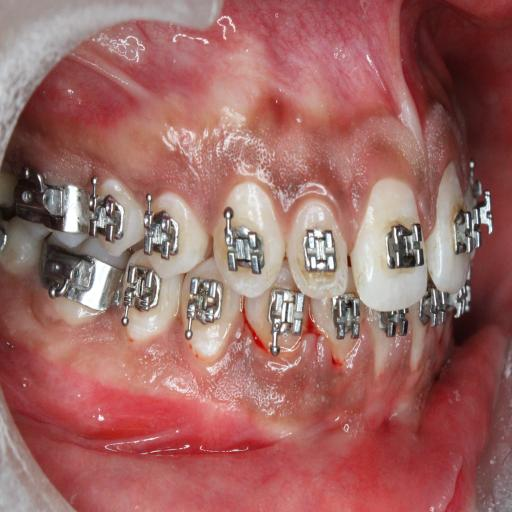correct_brace: (142, 184, 210, 272), (220, 211, 268, 280), (382, 217, 426, 277), (298, 224, 339, 280)
incorrect_brace: (285, 193, 348, 298), (144, 198, 184, 264)
